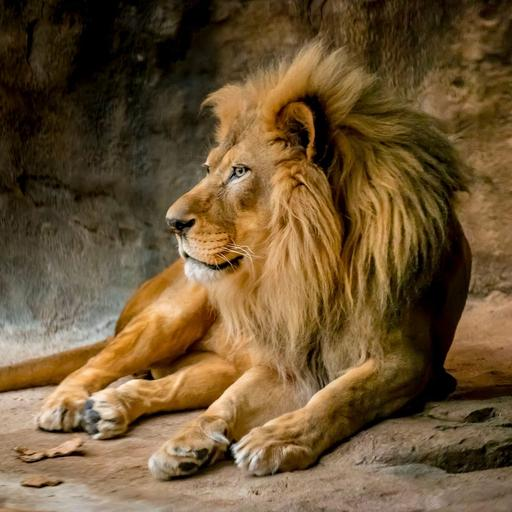Lion: (0, 29, 482, 490)
